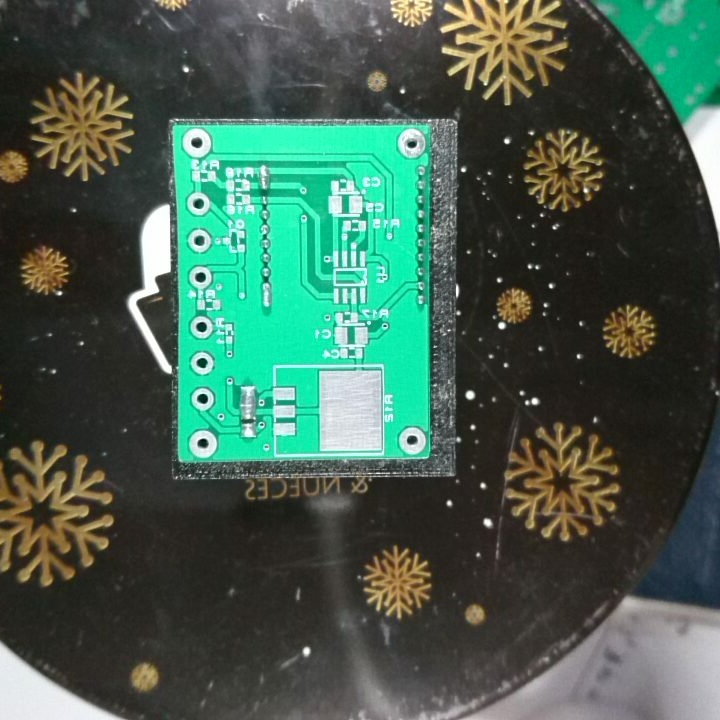F: (179, 126, 213, 160), (396, 126, 428, 161), (397, 424, 428, 457), (187, 429, 219, 459), (188, 350, 216, 378), (187, 386, 217, 412), (185, 226, 212, 254), (185, 191, 211, 218), (186, 264, 214, 289), (188, 315, 216, 340)
P: (237, 383, 257, 421), (257, 280, 274, 311), (257, 161, 271, 192)
